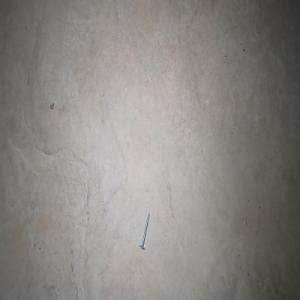Bolt: (139, 211, 149, 250)
